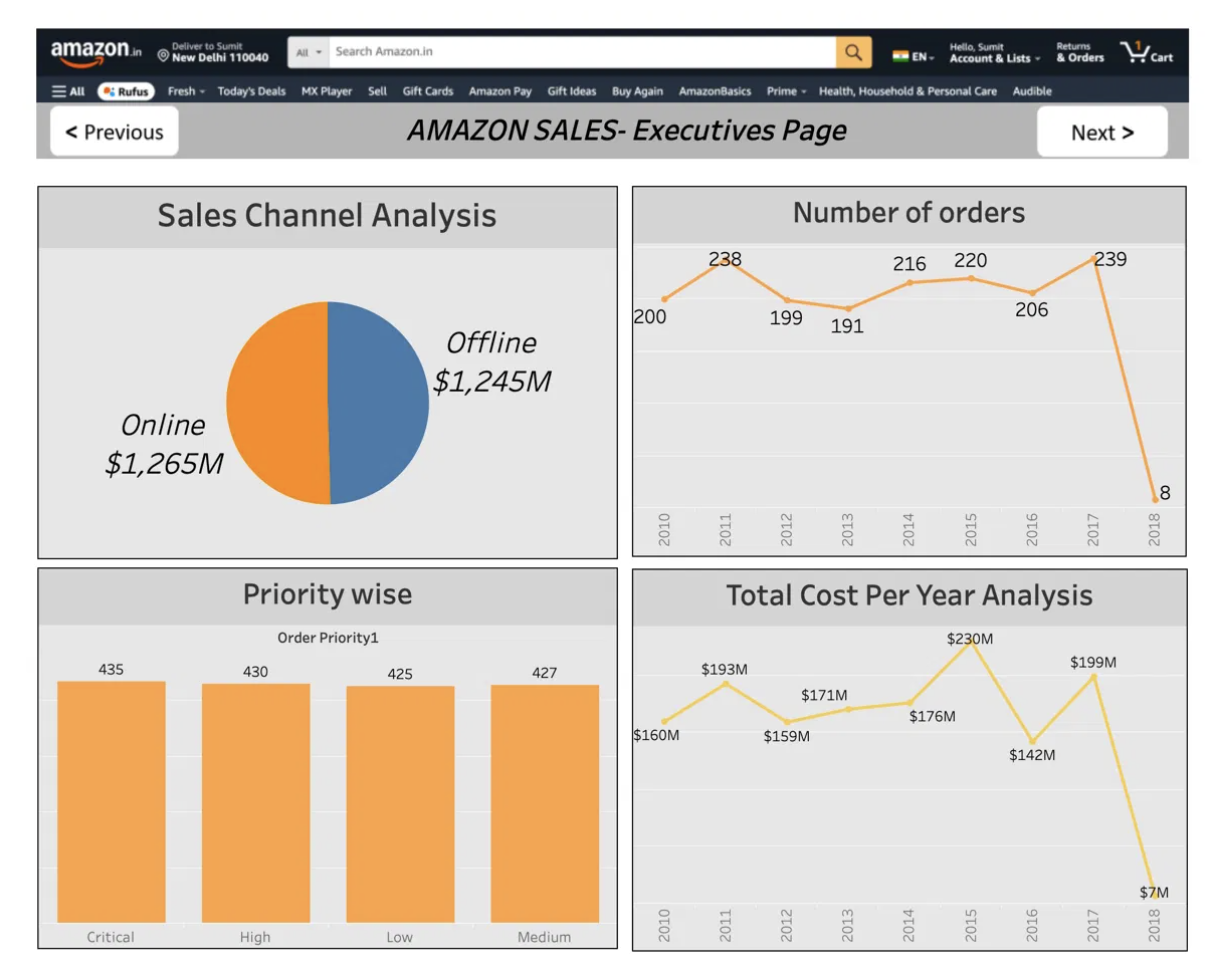

The dashboard page shown, as its layout file describes it:
{"tool":"tableau","page":{"name":"Executives Page","canvas":[1000,800],"ordinal":0},"visuals":[{"type":"image","param":"/Users/sumitbhandari/Desktop/Screenshot 2026-05-27 at 1.45.00 PM.png","box":[8,5,981,70]},{"type":"blank","box":[8,68,981,48]},{"type":"dashboard-object","box":[14,70,121,49]},{"type":"text","box":[252,70,518,41]},{"type":"dashboard-object","box":[837,70,157,50]},{"type":"worksheet","title":"Sales Channel ","mark":"Pie","box":[9,139,494,318]},{"type":"worksheet","title":"Number of orders","mark":"Line","rows":["Calculation_4108949769203716"],"cols":["Ship Date"],"box":[515,139,472,316]},{"type":"worksheet","title":"Priority wise","mark":"Automatic","rows":["Calculation_4108949769203716"],"cols":["Order Priority"],"box":[9,464,494,325]},{"type":"worksheet","title":"Shipment per year","mark":"Automatic","rows":["Total Cost"],"cols":["Ship Date"],"box":[515,465,473,326]}]}

Visuals, with their boxes on the page's 1000x800 design canvas (x1, y1, x2, y2). These are canvas units, not pixel positions in the 1206x968 screenshot, which may show the page scaled, cropped or inside an application window:
image: 8/5/989/75
blank: 8/68/989/116
dashboard-object: 14/70/135/119
text: 252/70/770/111
dashboard-object: 837/70/994/120
"Sales Channel " worksheet (Pie marks): 9/139/503/457
"Number of orders" worksheet (Line marks): 515/139/987/455
"Priority wise" worksheet: 9/464/503/789
"Shipment per year" worksheet: 515/465/988/791
